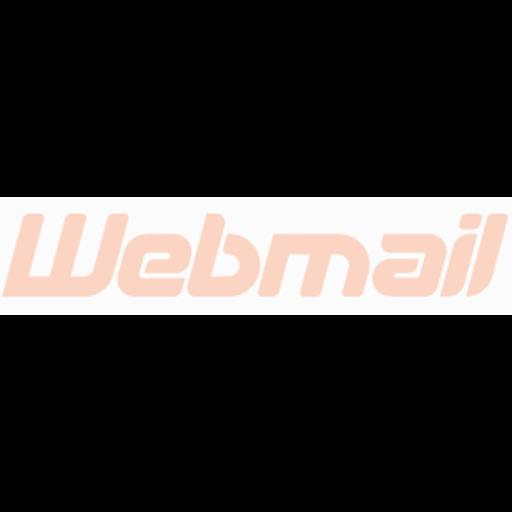Webmail Provider: (0, 197, 512, 315)
